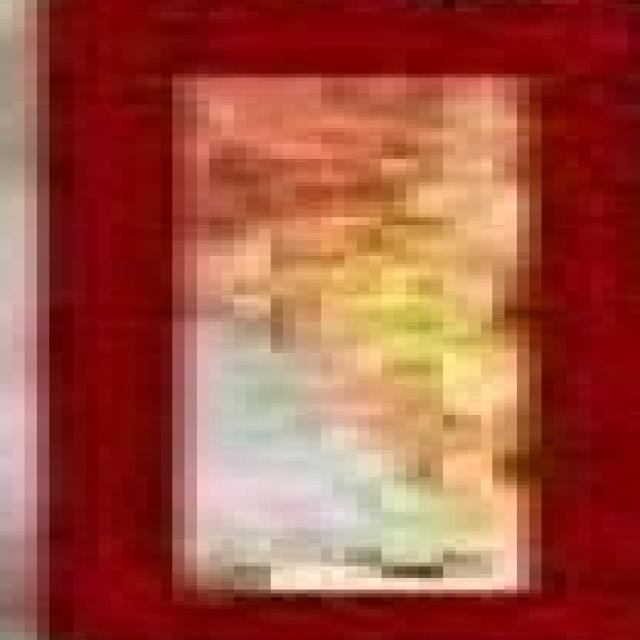fire: (12, 0, 640, 640)
